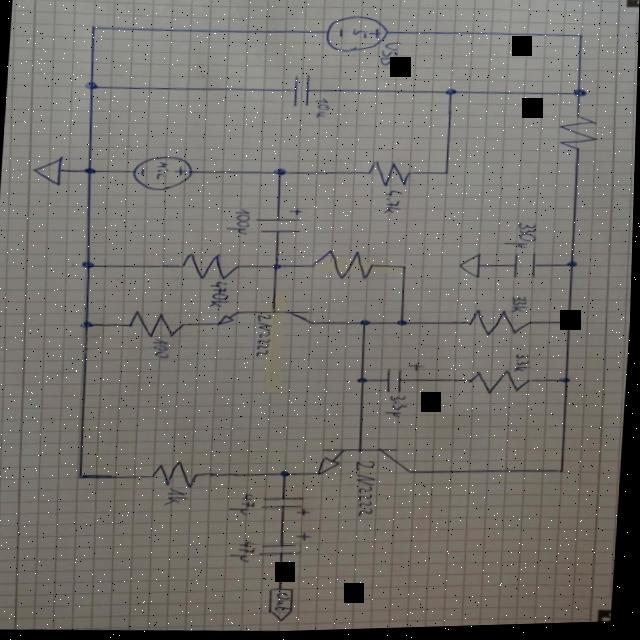capacitor: (261, 531, 316, 560), (254, 207, 306, 236), (261, 494, 316, 520), (385, 363, 426, 397), (510, 253, 541, 282), (291, 73, 313, 110)
ground: (31, 153, 66, 187), (459, 254, 484, 283)
junction: (570, 89, 589, 102), (84, 80, 100, 91), (443, 89, 460, 99), (80, 259, 97, 269), (565, 261, 580, 272), (274, 167, 289, 178), (83, 166, 100, 175), (396, 319, 411, 329), (81, 319, 96, 328), (271, 263, 285, 272), (563, 321, 577, 330), (560, 379, 574, 387), (360, 320, 374, 328), (77, 472, 91, 480), (281, 470, 293, 479), (358, 378, 371, 386), (399, 265, 411, 272), (575, 35, 585, 42), (442, 172, 453, 178), (559, 471, 569, 477), (89, 24, 97, 30)
resistor: (307, 249, 379, 283), (465, 309, 537, 340), (179, 251, 243, 283), (555, 115, 601, 156), (468, 371, 536, 398), (128, 309, 187, 339), (153, 459, 204, 489), (367, 161, 415, 189)
source: (323, 14, 391, 56)
terminal: (269, 588, 299, 624)
text: (353, 457, 382, 520), (503, 224, 539, 253), (256, 315, 276, 359), (225, 208, 253, 237), (385, 395, 413, 421), (208, 280, 232, 309), (231, 493, 259, 517), (382, 189, 406, 217), (378, 42, 402, 69), (232, 541, 258, 564), (165, 487, 192, 508), (153, 338, 174, 360), (509, 296, 530, 316), (514, 355, 533, 376), (314, 98, 331, 121), (277, 593, 295, 613), (155, 161, 171, 182), (351, 30, 369, 41)
transistor: (317, 446, 418, 482), (214, 307, 320, 334)
